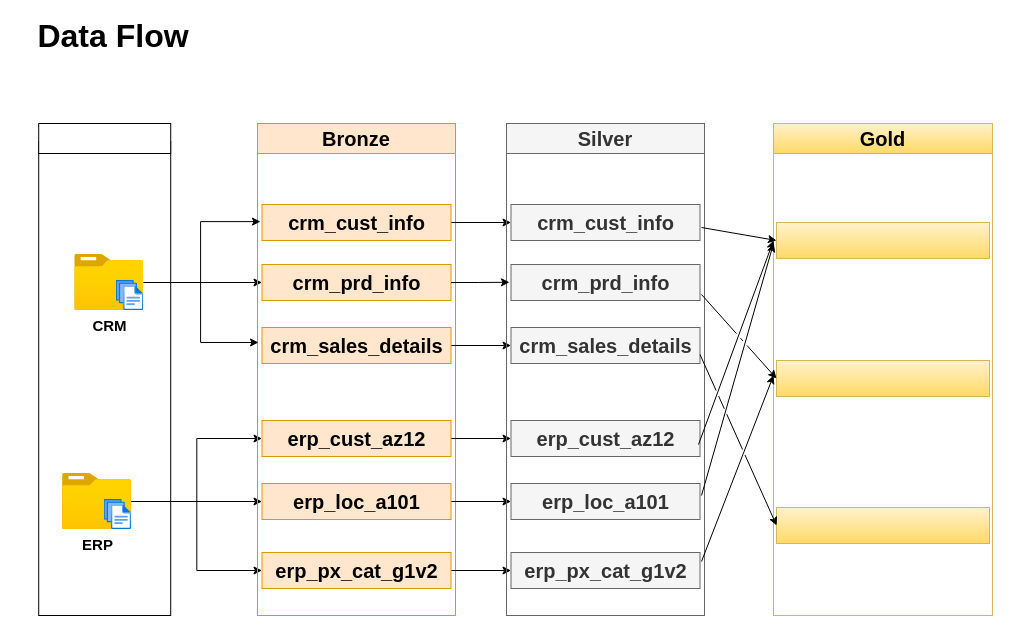
The diagram is 1010 pixels wide and 633 high, and some of its shapes have lost their labels. Here are the shapes that lost their labels. From the top down, the centre of each, then its label:
At (x=104, y=138): "Source".
At (x=883, y=240): "dim_customers".
At (x=883, y=378): "dim_products".
At (x=883, y=525): "fact_orders".
